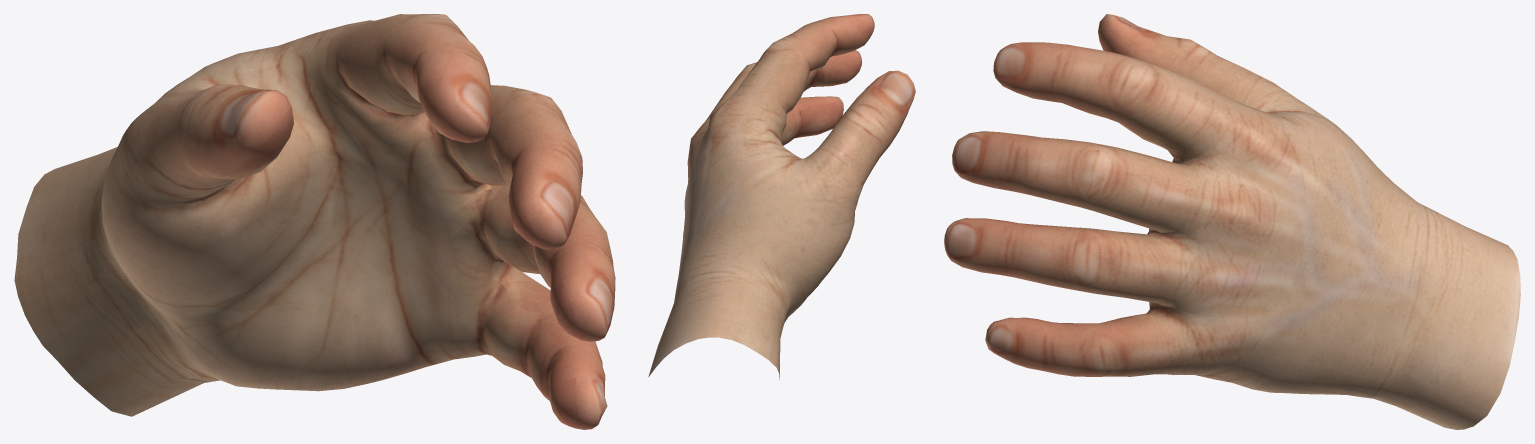
Rendered from hand.glb.
The picture shows the model from 3 angles, left to right: view 1: azimuth 30°, elevation 25°; view 2: azimuth 150°, elevation 25°; view 3: azimuth 270°, elevation 25°; orthographic projection. The views are drawn at different scales.
Parts seen in each view (by area): view 1: handlow; view 2: handlow; view 3: handlow.
Part boxes in pixels (x1,y1,x2,y2): handlow: (14,14,615,429); handlow: (648,14,915,379); handlow: (944,14,1520,429).
Bounding box in the file's own units: 11.2 × 16.36 × 21.87.
Materials: 1 (1 with a texture image).
